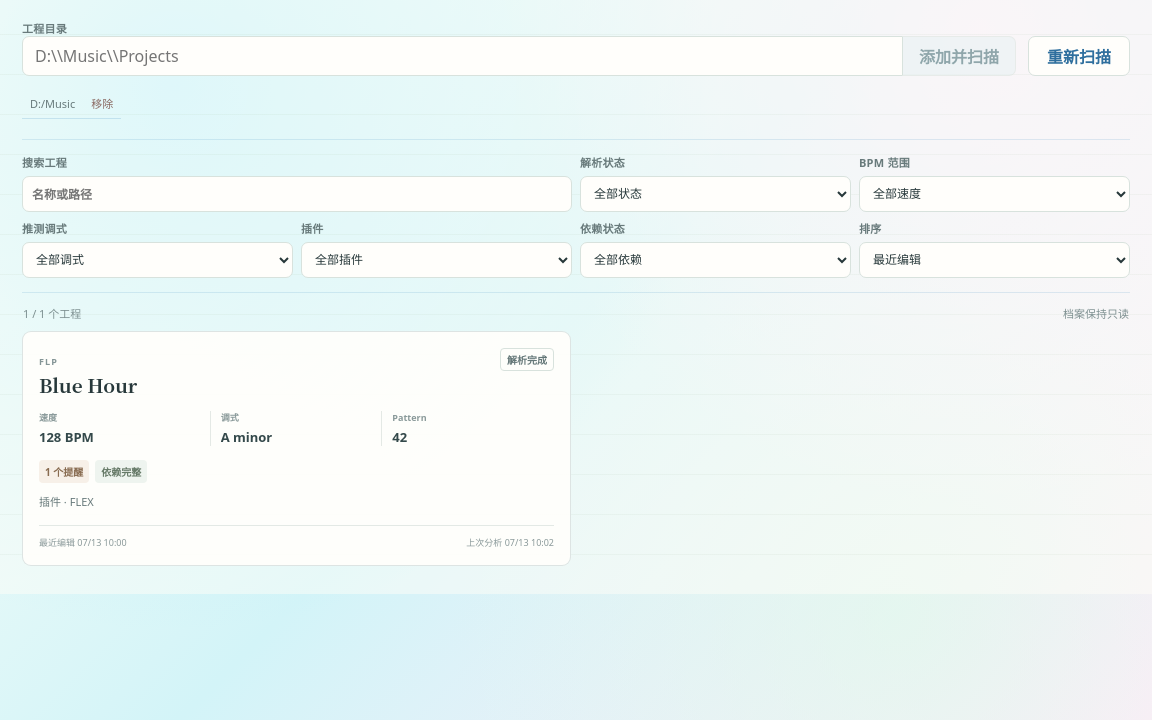
Test: StudioLibrary › ignores an old completed refresh error after a newer scan starts
Click the button "重新扫描". click: (1079, 56)
box: left=1028, top=36, right=1130, bottom=76
Wait 1000 ms
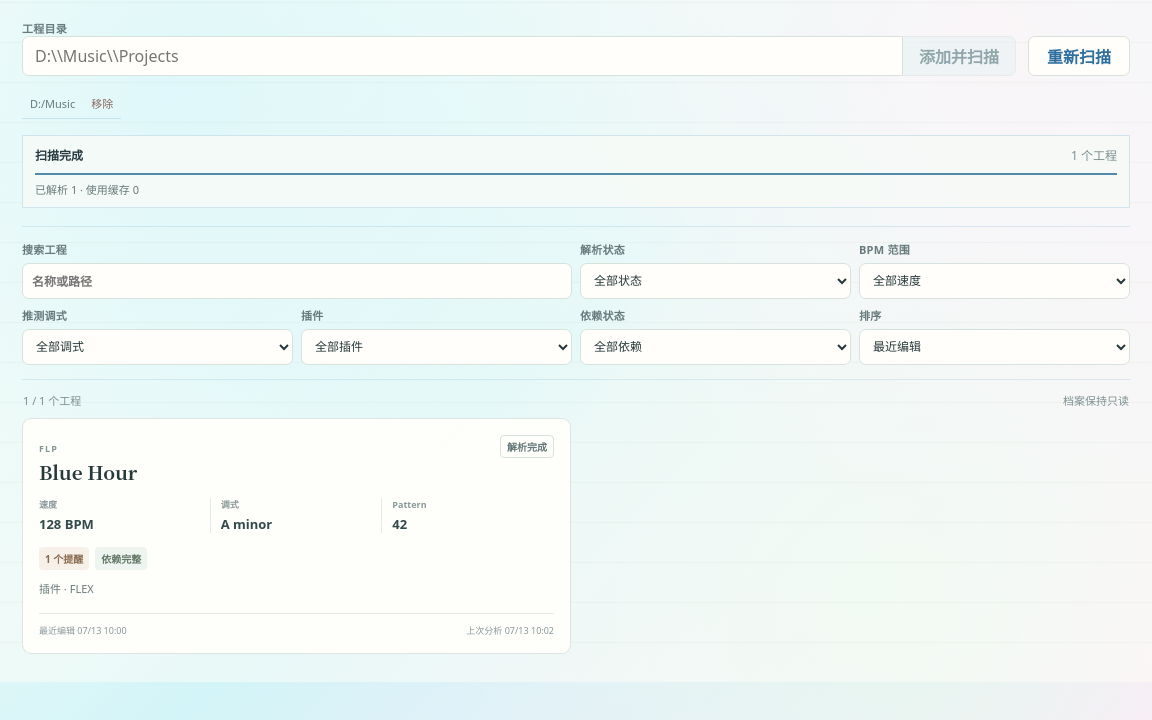
Expected: the text "扫描完成" is shown, left=35, top=146, right=83, bottom=164
Click the button "重新扫描". click: (1079, 56)
box: left=1028, top=36, right=1130, bottom=76
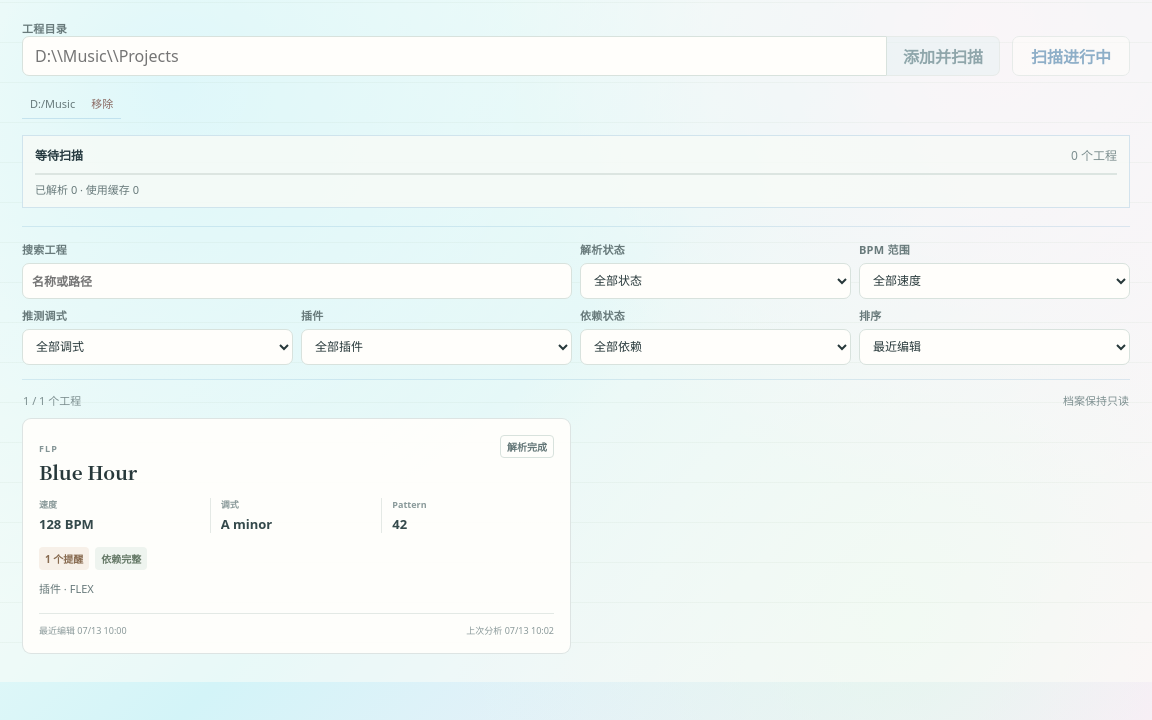
Expected: the text "等待扫描" is shown, left=35, top=146, right=83, bottom=164
